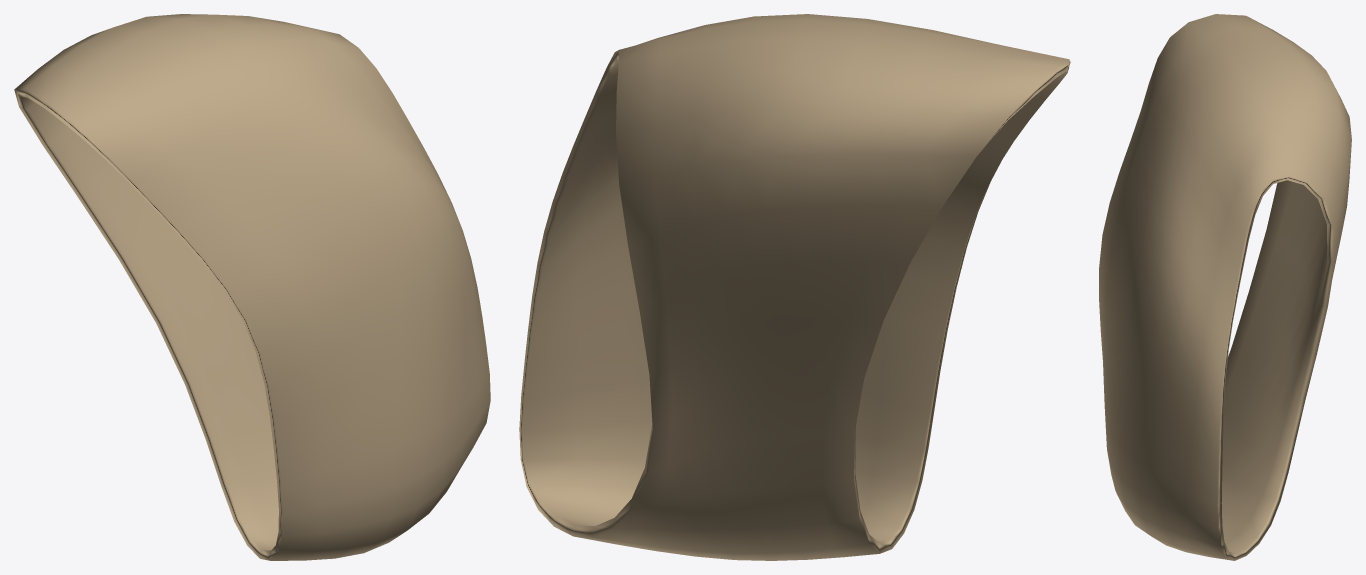
The picture shows the model from 3 angles, left to right: view 1: azimuth 30°, elevation 25°; view 2: azimuth 150°, elevation 25°; view 3: azimuth 270°, elevation 25°; orthographic projection. The views are drawn at different scales.
Parts seen in each view (by area): view 1: 左侧肩锁关节囊; view 2: 左侧肩锁关节囊; view 3: 左侧肩锁关节囊.
Boxes of the visible parts, x1,y1,x2,y2 form: 左侧肩锁关节囊: (14,14,490,560); 左侧肩锁关节囊: (519,14,1070,560); 左侧肩锁关节囊: (1099,14,1351,560).
Bounding box in the file's own units: 0.0398 × 0.043 × 0.0238.
